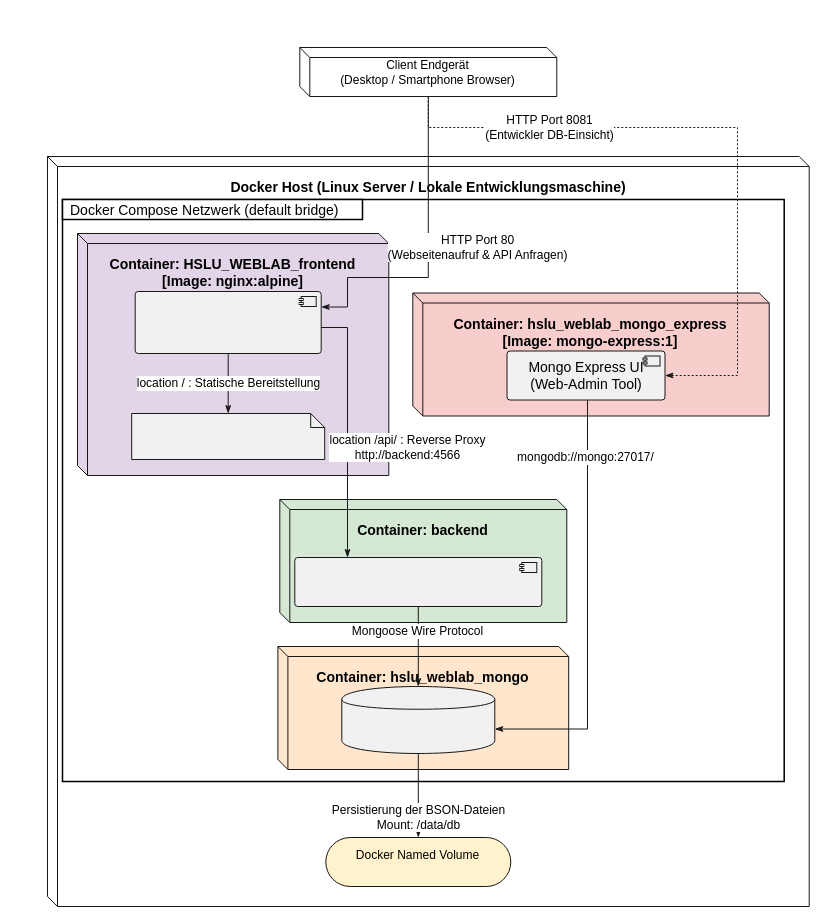
This 827x924 diagram has some shape labels left out. The centre of each missing label's shape, as x and y in pixels:
Angular 19 SPA (Produktions-Build dist/): point (228, 436)
MongoDB Daemon: point (418, 720)
NestJS Application (Node.js Runtime / dist/main.js): point (418, 581)
Nginx 1.25 Webserver & Reverse Proxy: point (227, 322)
